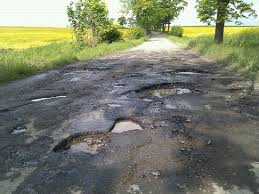pothole: (134, 77, 203, 106), (55, 131, 109, 157), (25, 90, 75, 110), (109, 109, 146, 135), (168, 64, 213, 78), (8, 122, 29, 140)
